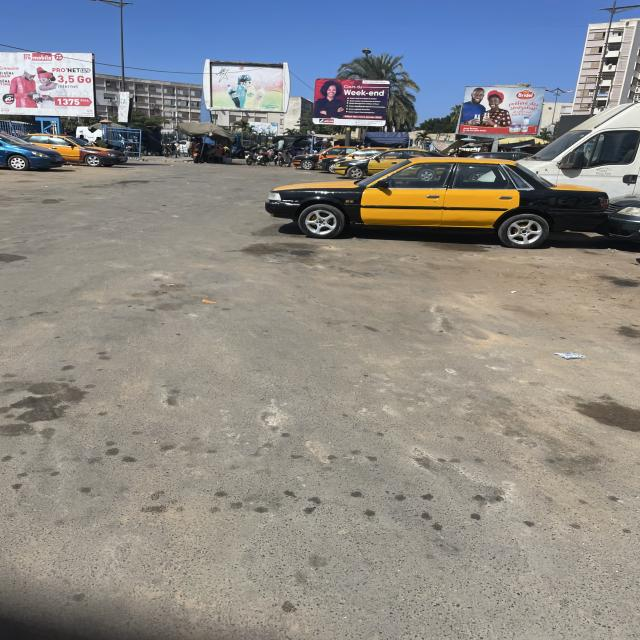fourgon: (521, 104, 640, 199)
moto: (246, 147, 261, 166), (164, 145, 181, 159), (279, 151, 293, 167), (258, 150, 269, 167)
particulier: (1, 134, 66, 171)
taxi: (266, 157, 608, 250), (24, 135, 129, 167), (334, 150, 441, 180), (293, 147, 361, 171)
